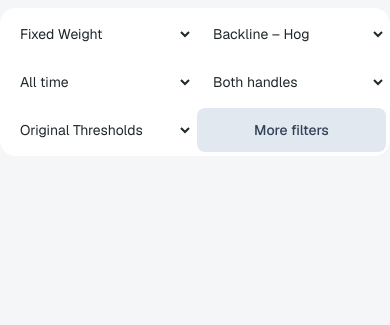
Test: HistoryFilterBar — Compare: Custom › seeds sensible starting values when switching from Tight to Custom
Select "Compare: Tight (±0.05s/±0.10s)" in the dropdown named "Threshold Comparison Mode". click: (98, 130)
box: top-left (4, 108), bottom-right (193, 152)
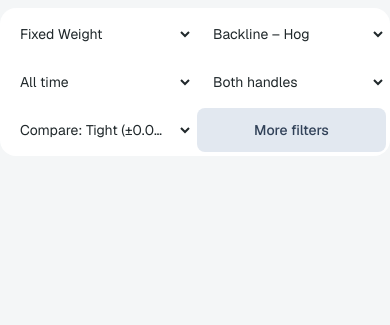
Select "Compare: Custom…" in the dropdown named "Threshold Comparison Mode". click: (98, 130)
box: top-left (4, 108), bottom-right (193, 152)
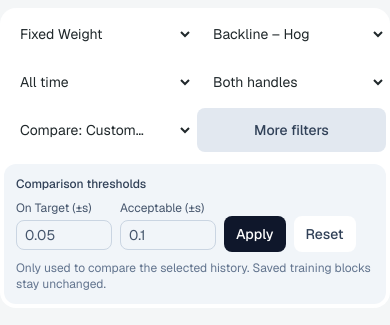
Check: the number field named "Custom On Target threshold" holds "0.05", box top-left (16, 220), bottom-right (112, 250)
Check: the number field named "Custom Acceptable threshold" holds "0.1", box top-left (120, 220), bottom-right (216, 250)
